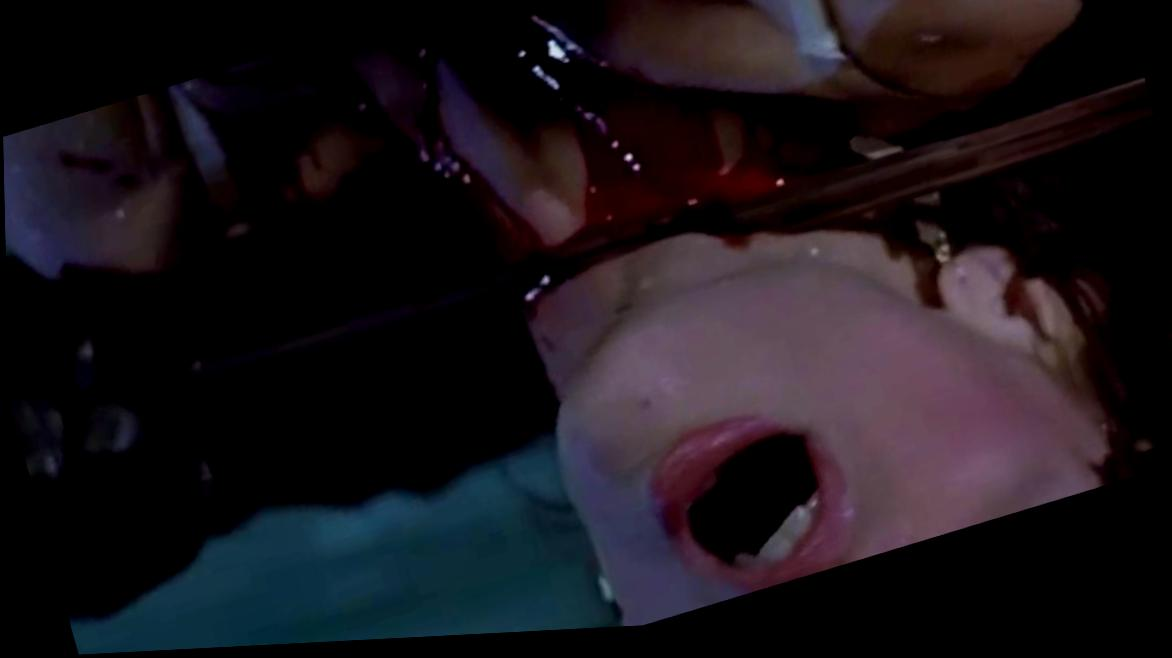Fire: (430, 0, 783, 244), (212, 83, 380, 249), (418, 111, 545, 268)
